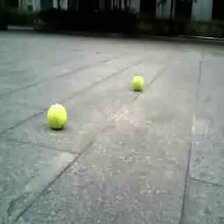tennis: (48, 103, 67, 126), (132, 75, 143, 89)
